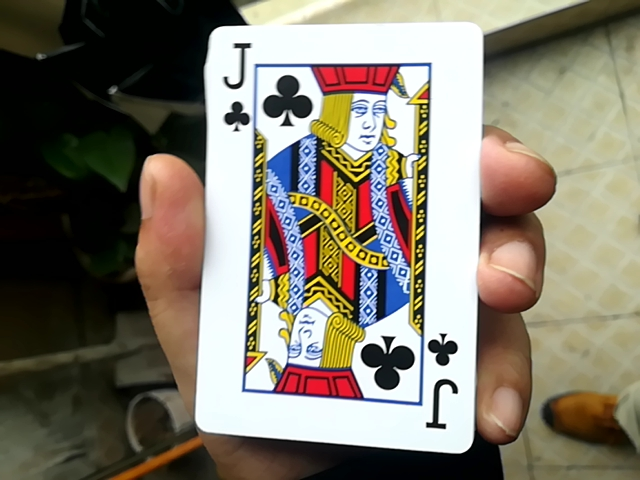mh j: (187, 12, 475, 440)
